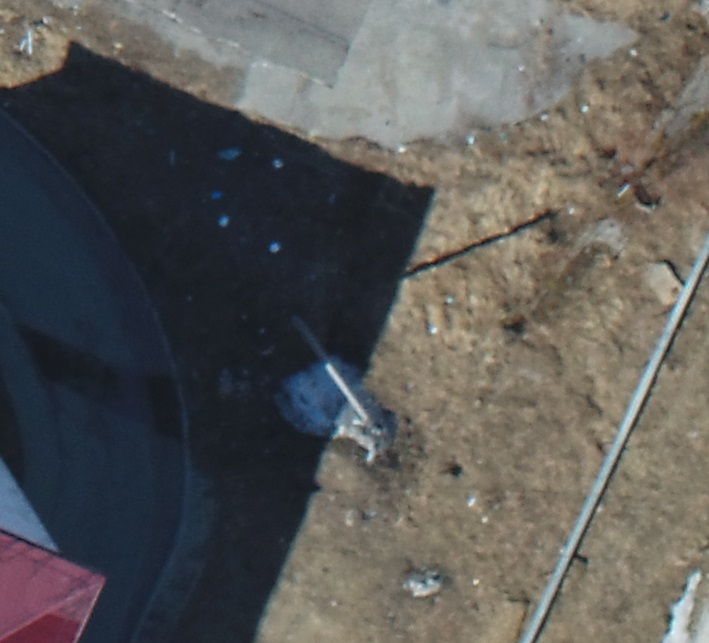opora: (287, 304, 390, 470)
